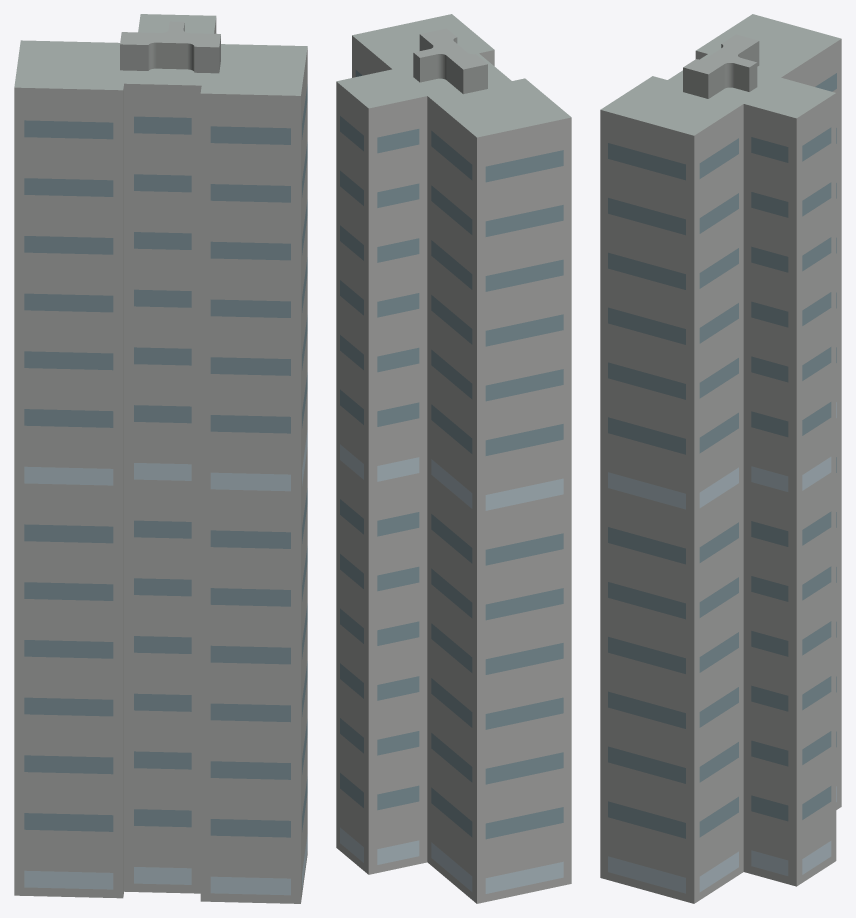
The model's file is fallback-lake-palace-130.glb.
The picture shows the model from 3 angles, left to right: view 1: azimuth 30°, elevation 25°; view 2: azimuth 150°, elevation 25°; view 3: azimuth 270°, elevation 25°; orthographic projection. The views are drawn at different scales.
Parts seen in each view (by area): view 1: fallback-lake-palace-130; view 2: fallback-lake-palace-130; view 3: fallback-lake-palace-130.
Part boxes in pixels (box(x1,y1,x2,y2)): fallback-lake-palace-130: box(14, 14, 307, 903); fallback-lake-palace-130: box(336, 14, 571, 903); fallback-lake-palace-130: box(600, 14, 841, 903).
Bounding box in the file's own units: 25.37 × 77 × 21.24.
